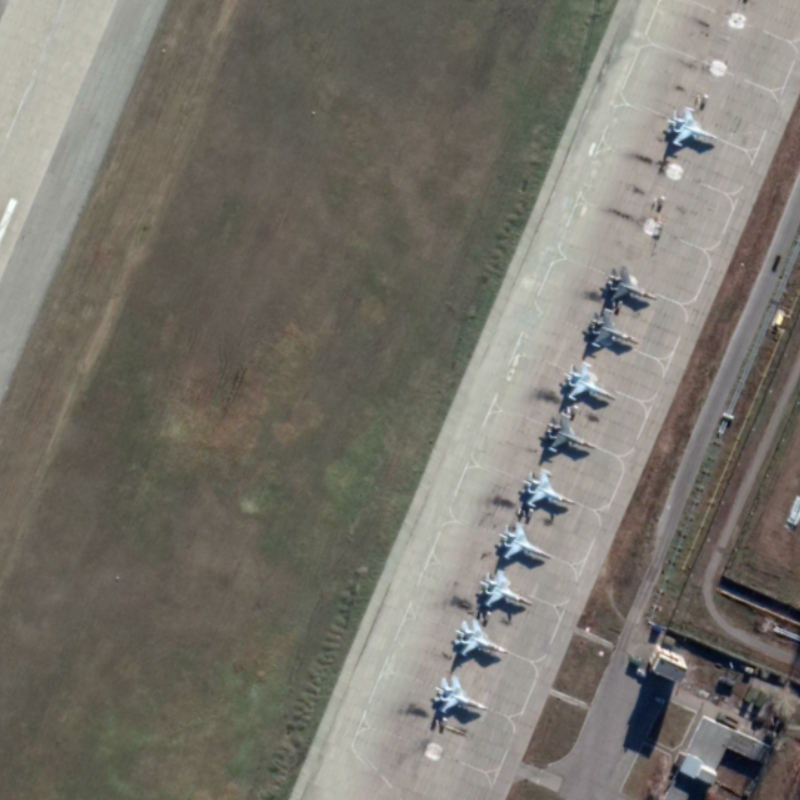A1: (521, 466, 578, 509), (605, 266, 658, 311), (495, 521, 553, 562), (477, 568, 535, 609), (431, 674, 489, 715), (562, 359, 617, 402), (665, 105, 718, 149), (587, 306, 641, 349), (452, 617, 509, 657), (545, 412, 599, 454)
